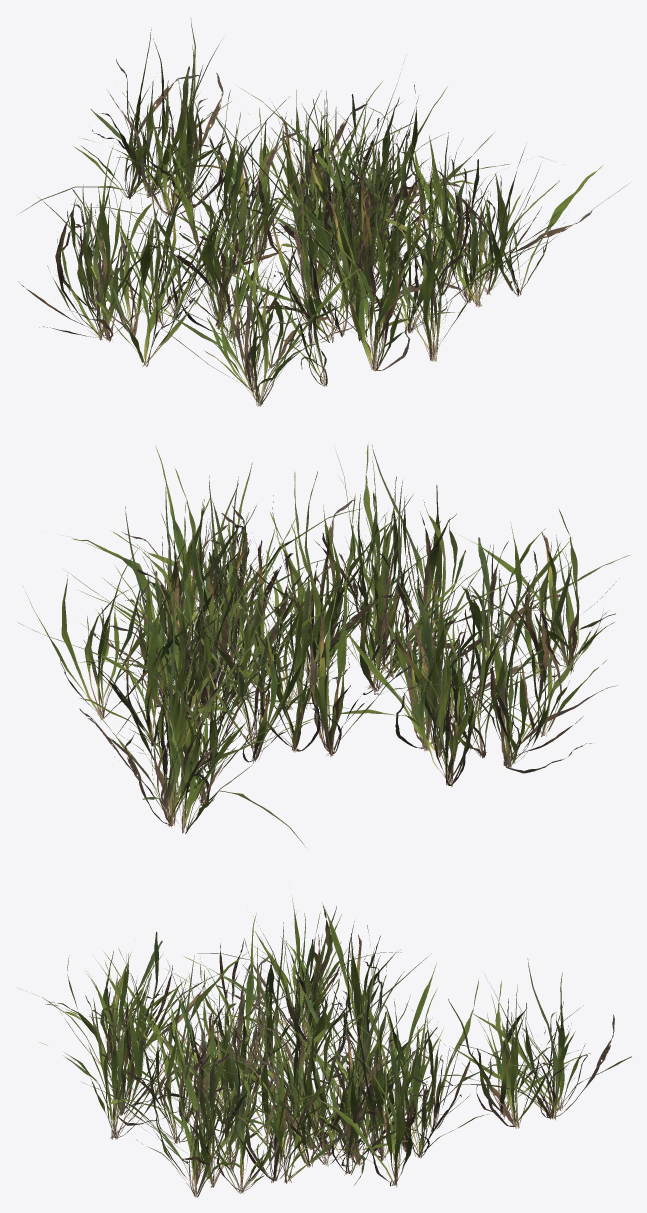
Rendered from Grass_04_Var1_LOD0.fbx.
3 views of the same model, one above another, from view 1: azimuth 30°, elevation 25°; view 2: azimuth 150°, elevation 25°; view 3: azimuth 270°, elevation 25° (orthographic). The views are drawn at different scales.
Parts seen in each view (by area): view 1: Var1_LOD0; view 2: Var1_LOD0; view 3: Var1_LOD0.
Boxes of the visible parts, box(x1,y1,x2,y2) form: Var1_LOD0: box(18, 18, 629, 406); Var1_LOD0: box(18, 443, 629, 847); Var1_LOD0: box(19, 897, 631, 1197).
Size of the model in its own units: 77.05 by 25.96 by 81.69.
